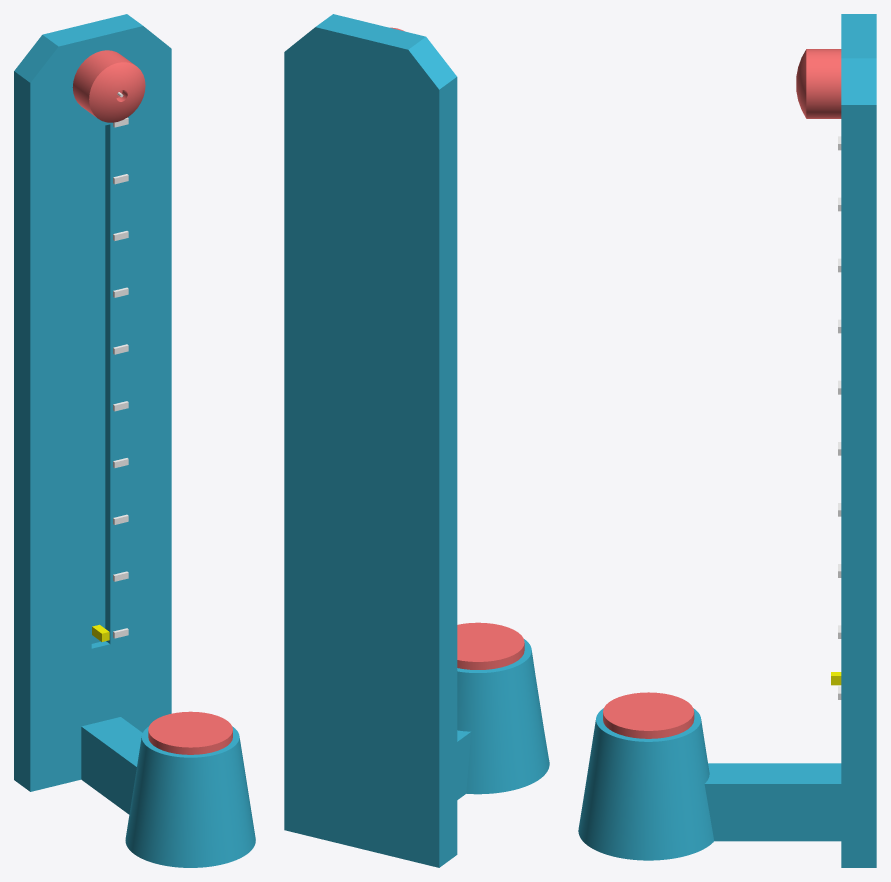
The picture shows the model from 3 angles, left to right: view 1: azimuth 30°, elevation 25°; view 2: azimuth 150°, elevation 25°; view 3: azimuth 270°, elevation 25°; orthographic projection. The views are drawn at different scales.
Visible parts, largest first — view 1: Hammer Slam Tower; view 2: Hammer Slam Tower; view 3: Hammer Slam Tower.
Boxes of the visible parts, bbox=[...] form: Hammer Slam Tower: bbox=[14, 14, 255, 867]; Hammer Slam Tower: bbox=[284, 14, 549, 867]; Hammer Slam Tower: bbox=[578, 14, 876, 867].
Size of the model in its own units: 50 by 250 by 85.
